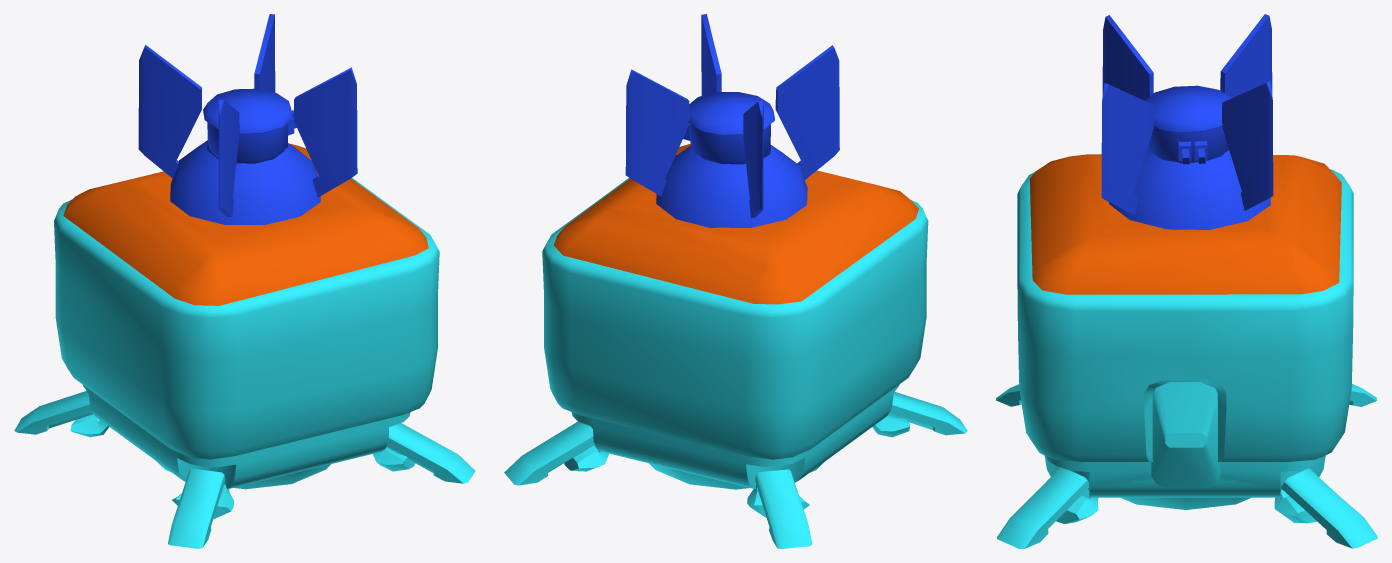
Rendered from Kaps_l1_elements.FBX.
3 views of the same model, side by side, from view 1: azimuth 30°, elevation 25°; view 2: azimuth 150°, elevation 25°; view 3: azimuth 270°, elevation 25° (orthographic). The views are drawn at different scales.
Parts seen in each view (by area): view 1: Object004, Object008, Object006; view 2: Object004, Object008, Object006; view 3: Object004, Object006, Object008.
Part boxes in pixels (x1,y1,x2,y2): Object004: (14, 178, 475, 548); Object008: (138, 14, 357, 224); Object006: (63, 143, 428, 305); Object004: (504, 177, 967, 548); Object008: (625, 14, 839, 227); Object006: (553, 144, 918, 304); Object004: (996, 169, 1377, 548); Object006: (1029, 154, 1341, 294); Object008: (1101, 14, 1273, 229).
Size of the model in its own units: 271 by 348 by 274.
